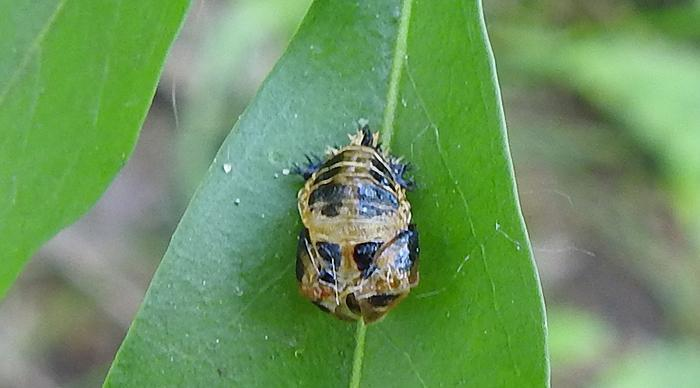ladybug: (289, 120, 424, 328)
